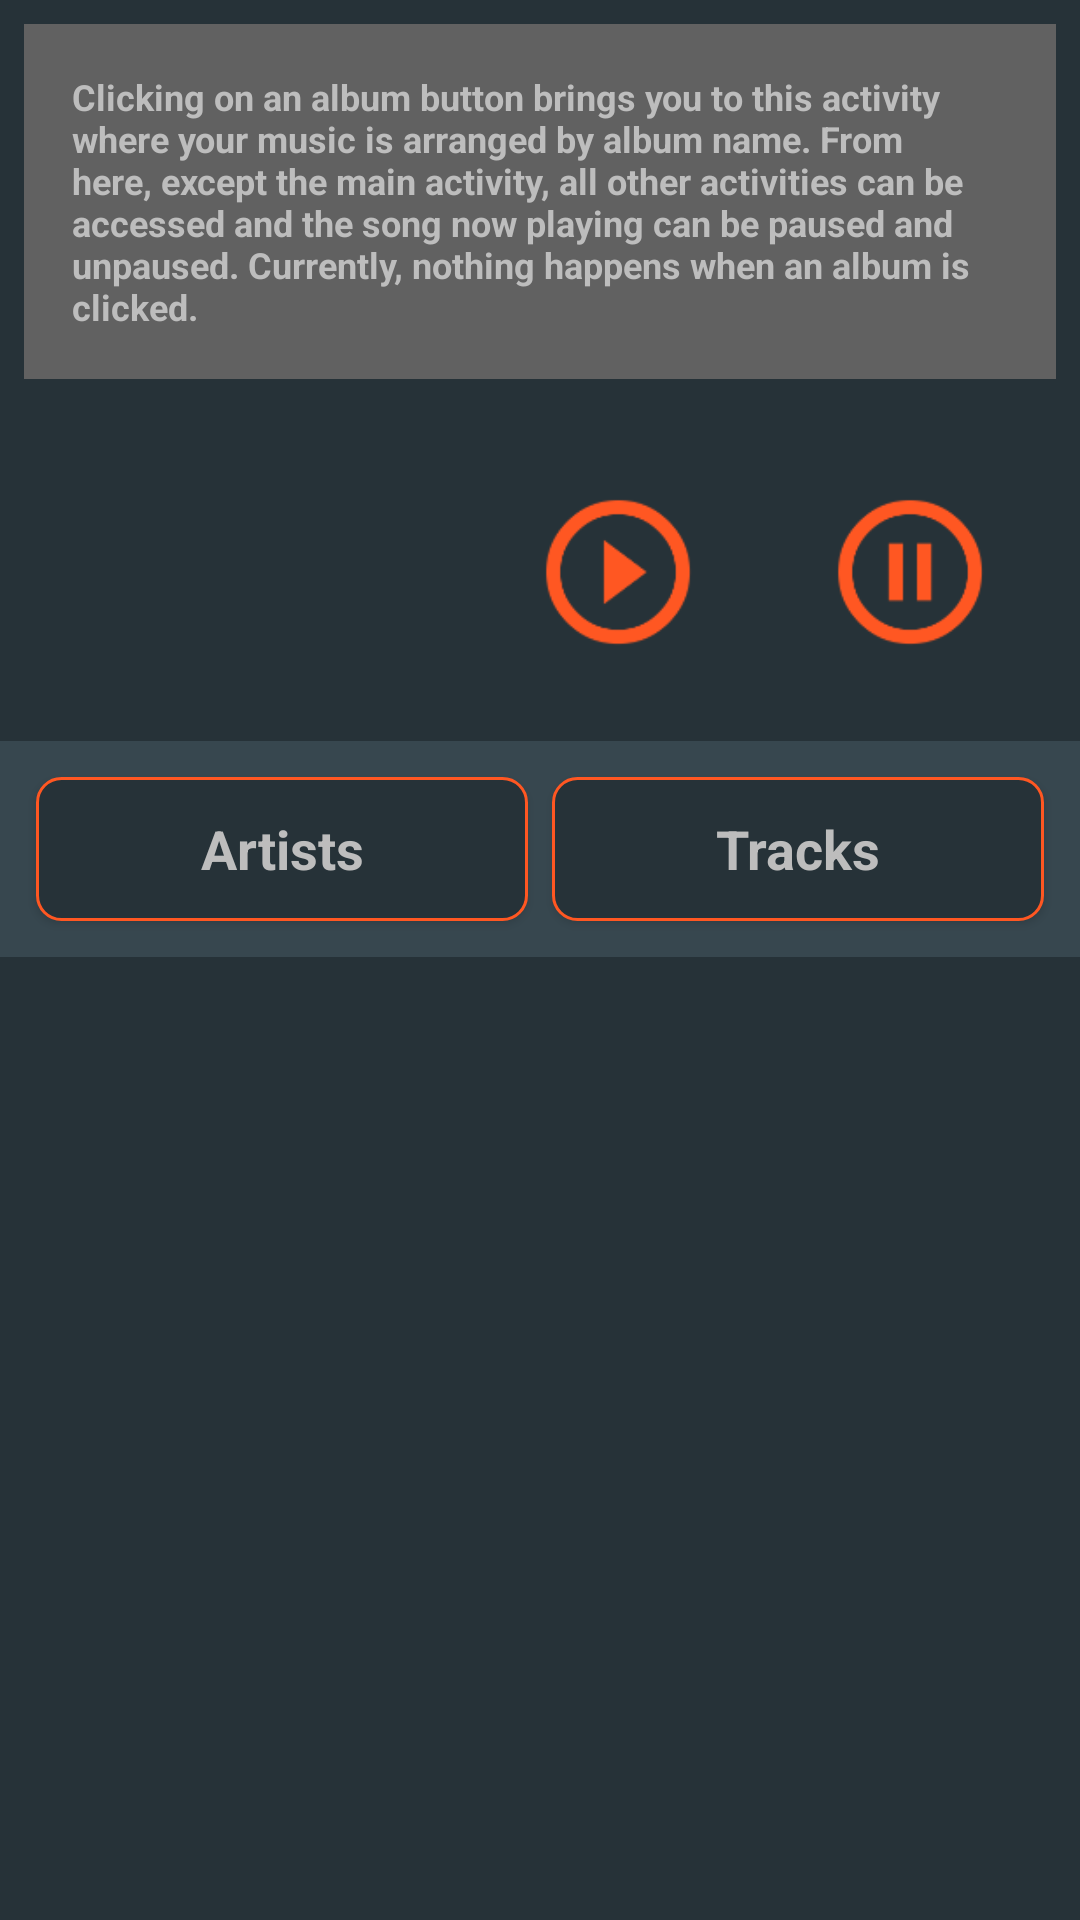

Where to tap for icons on this 1080w x 1920h app screen, as (x=x, y=y):
pause circle: (x=910, y=572)
play circle: (x=618, y=572)
